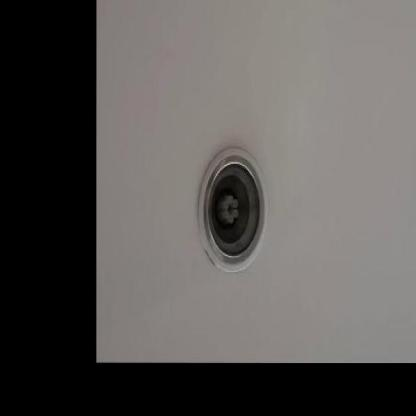light_off: (189, 124, 277, 278)
